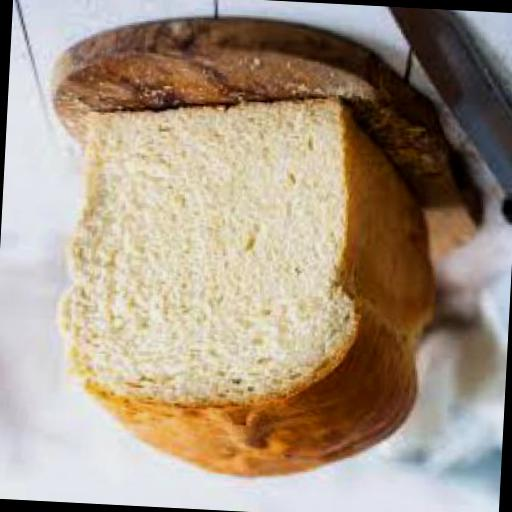biodegradable: (50, 90, 441, 484)
